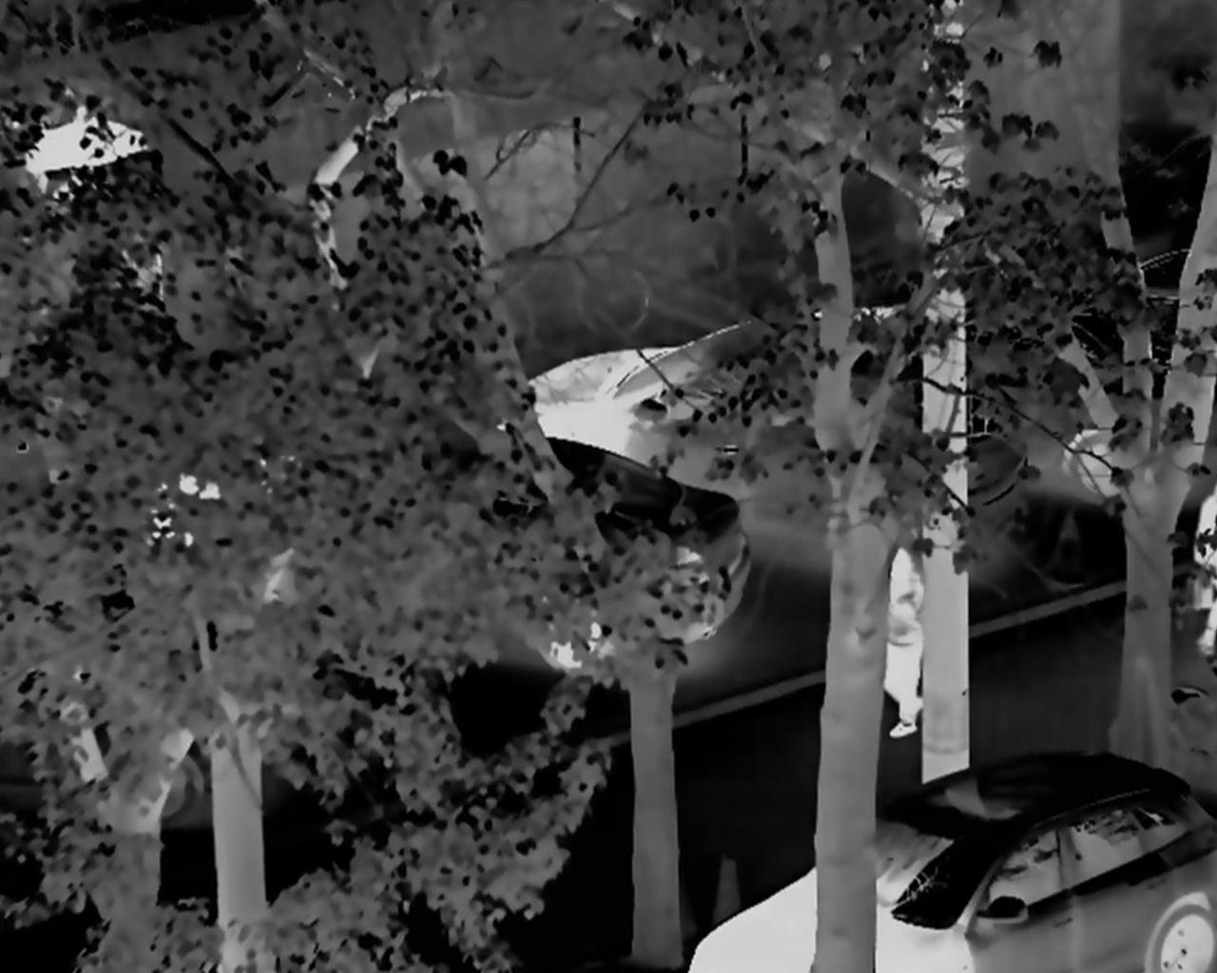person: (875, 541, 938, 742), (1181, 482, 1217, 655)
